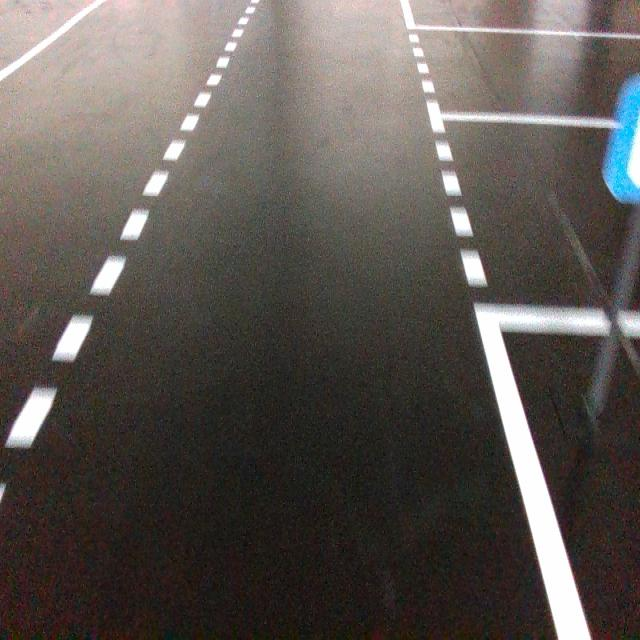parking-sign: (599, 71, 640, 205)
